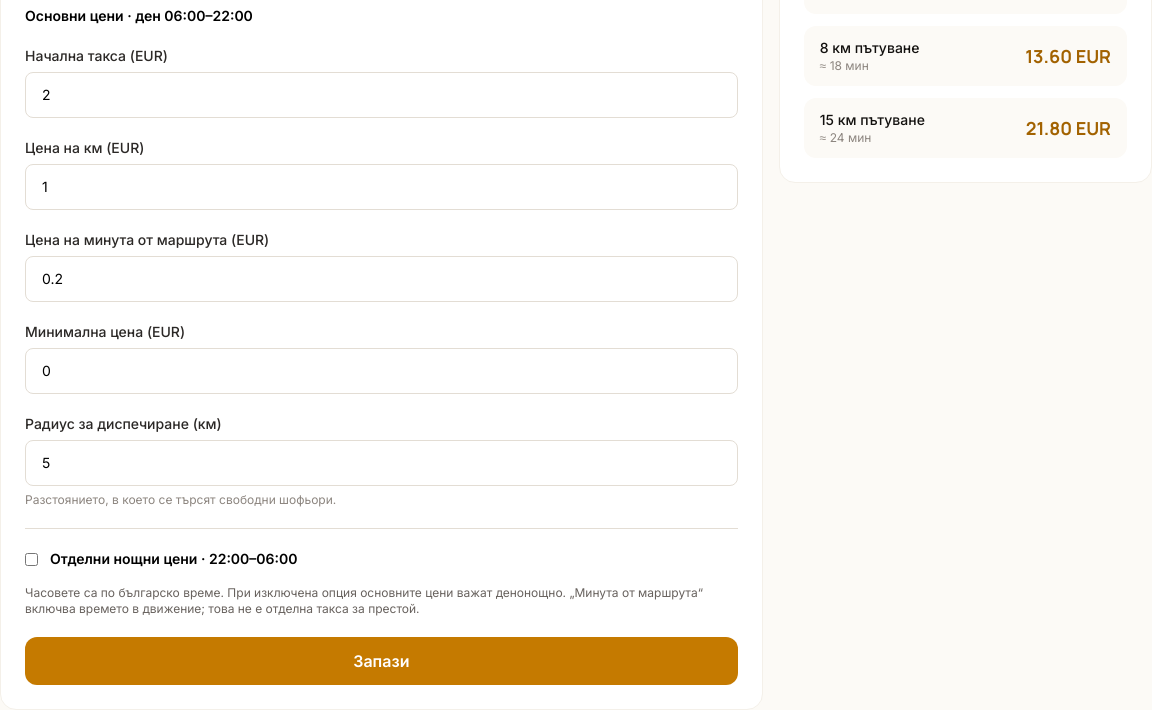
Test case: shows the tariffs returned by the server after saving
(page scrolled)
Click the button "Запази": click(381, 661) [25,637,738,685]
(page scrolled)
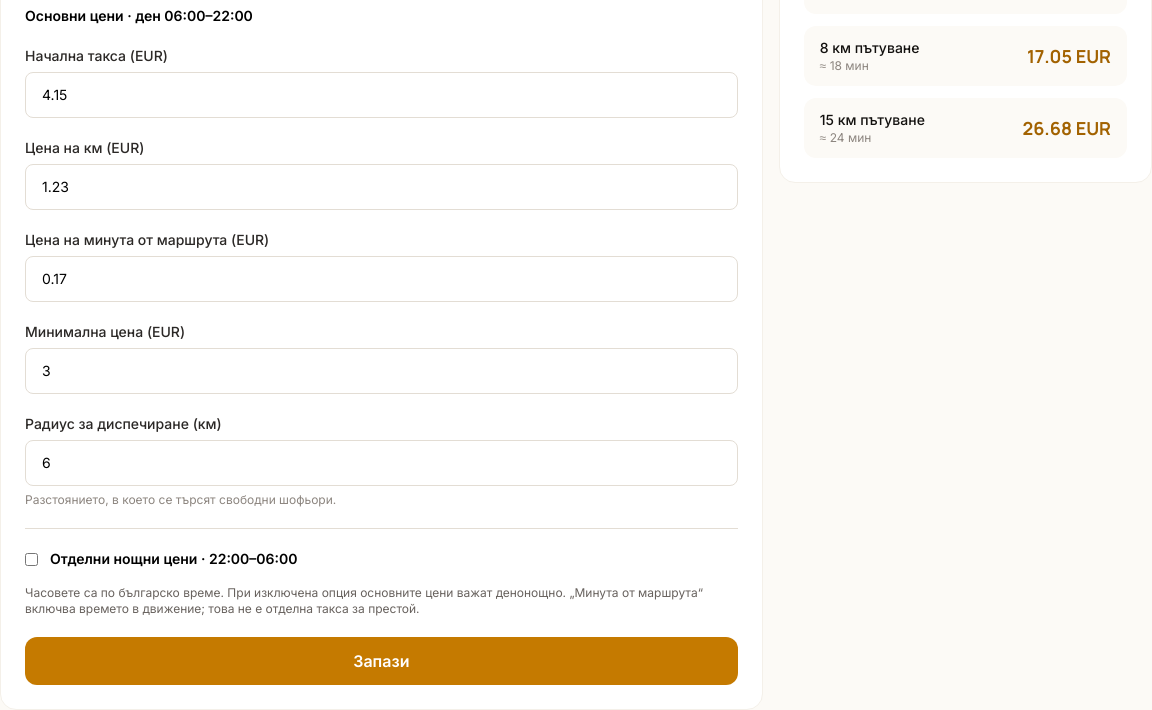
Expected: the number field labelled "Начална такса (EUR)" holds "4.15", [25,72,738,118]
